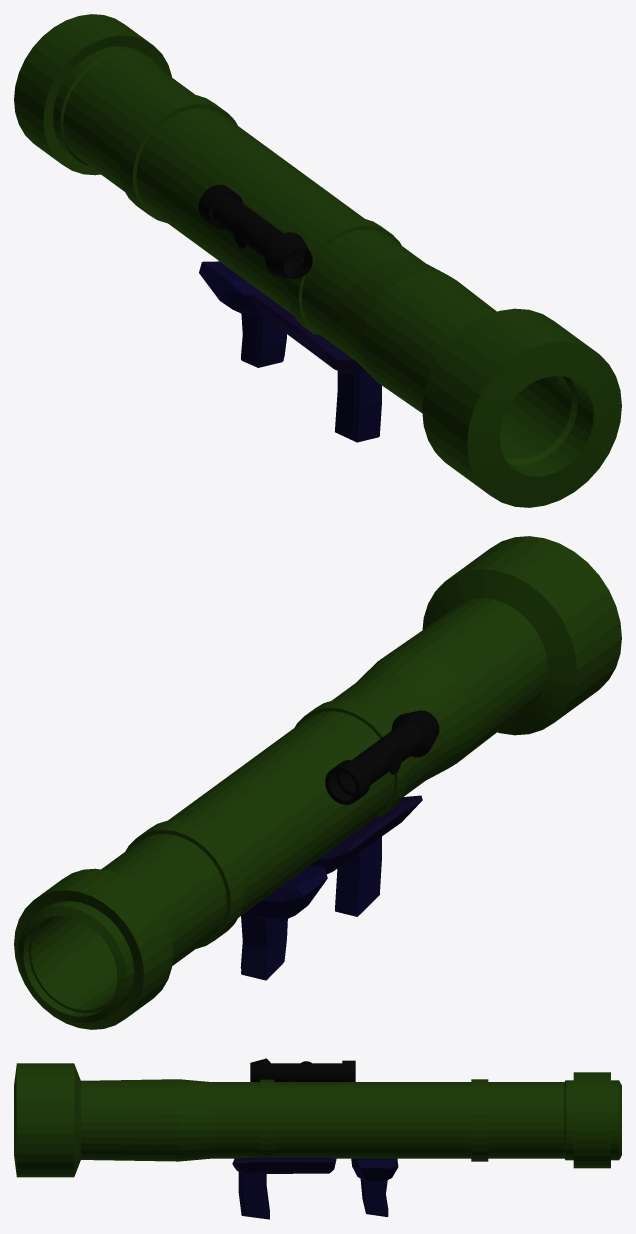
Rendered from Bazooka.glb.
The picture shows the model from 3 angles, top to bottom: view 1: azimuth 30°, elevation 25°; view 2: azimuth 150°, elevation 25°; view 3: azimuth 270°, elevation 25°; orthographic projection. The views are drawn at different scales.
Parts seen in each view (by area): view 1: Cilindro, Cilindro.001, Plano.002, Plano, Plano.003, Plano.001; view 2: Cilindro, Cilindro.001, Plano.002, Plano.003, Plano.001, Plano; view 3: Cilindro, Cilindro.001, Plano, Plano.002, Plano.001, Plano.003.
Boxes of the visible parts, x1,y1,x2,y2 form: Cilindro: [14, 14, 621, 507]; Cilindro.001: [198, 184, 312, 279]; Plano.002: [335, 371, 381, 442]; Plano: [250, 294, 365, 372]; Plano.003: [241, 313, 286, 367]; Plano.001: [199, 261, 264, 316]; Cilindro: [14, 536, 621, 1029]; Cilindro.001: [325, 710, 439, 804]; Plano.002: [335, 836, 381, 916]; Plano.003: [240, 914, 287, 980]; Plano.001: [244, 866, 327, 921]; Plano: [309, 795, 422, 874]; Cilindro: [14, 1063, 621, 1177]; Cilindro.001: [250, 1058, 355, 1081]; Plano: [232, 1157, 336, 1173]; Plano.002: [238, 1172, 269, 1219]; Plano.001: [351, 1158, 398, 1183]; Plano.003: [360, 1179, 388, 1216].
Size of the model in its own units: 1.57 by 2.14 by 8.01.
